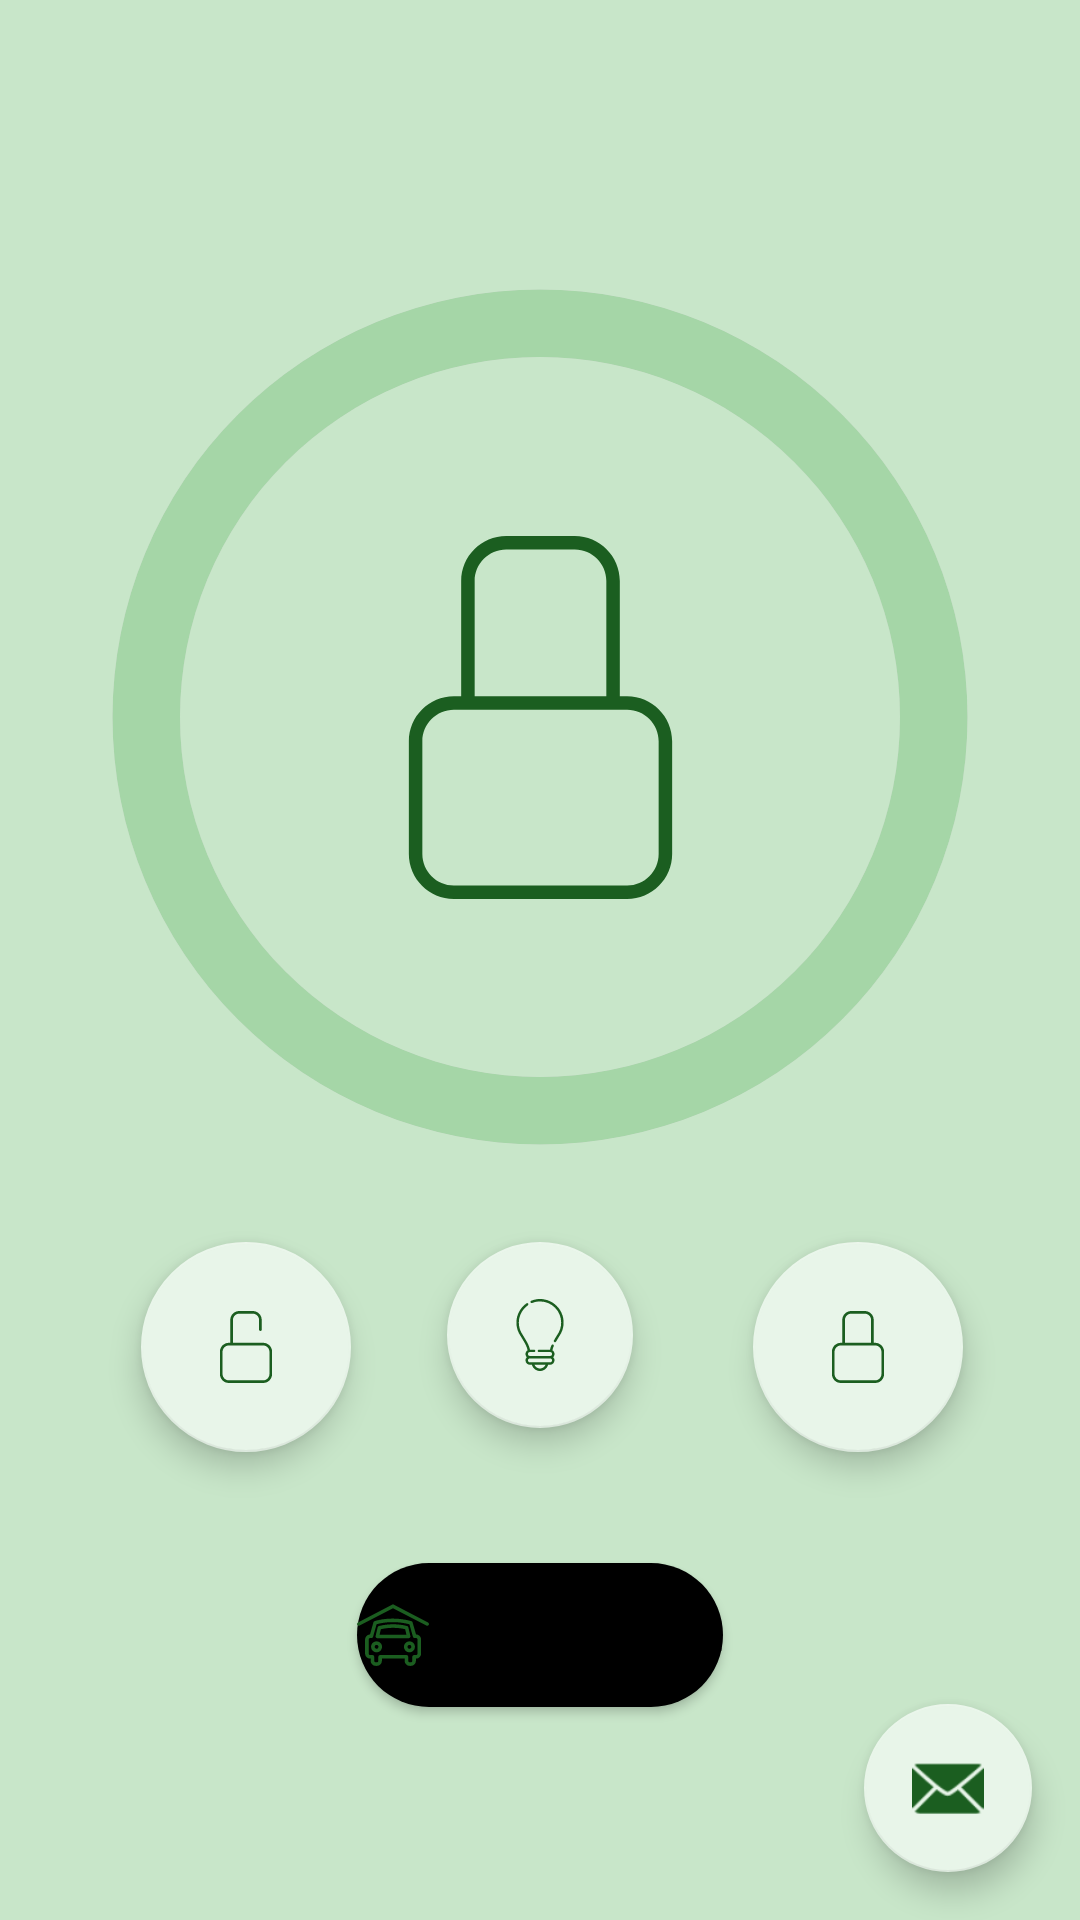

Point at icon controls on the screen. Image size 1080*1920, points as [x,y].
Close: [858,1347]
Lights: [540,1335]
Open: [246,1347]
